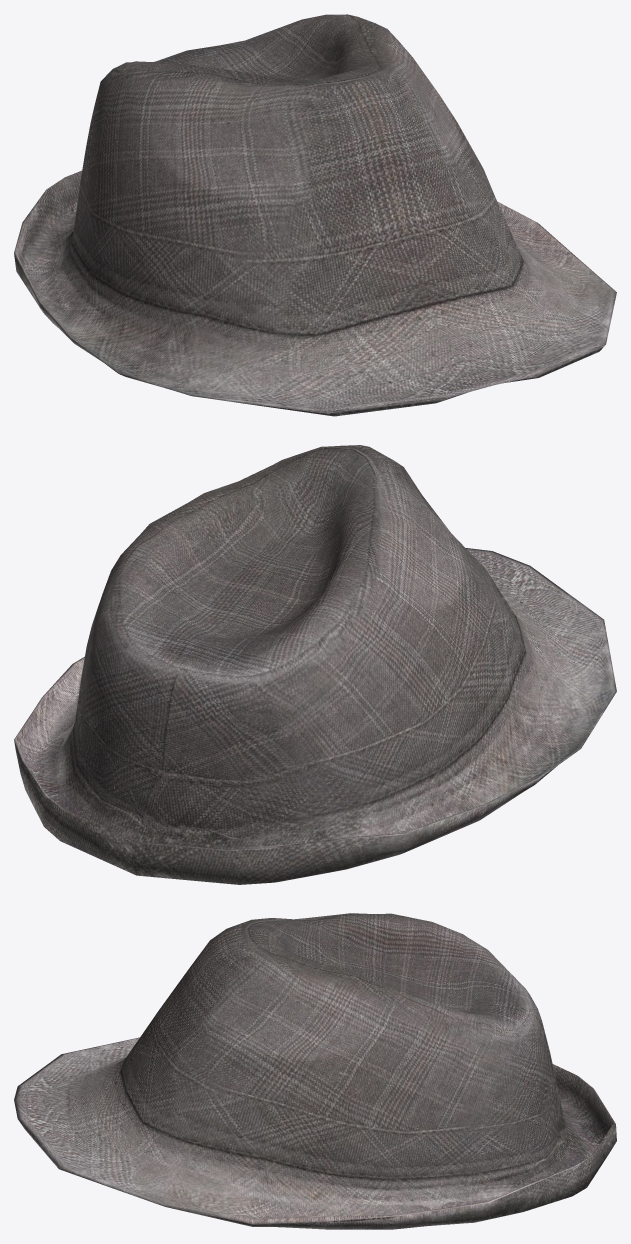
The model's file is hat_fedora.gltf.
3 renders of one model, top to bottom at view 1: azimuth 30°, elevation 25°; view 2: azimuth 150°, elevation 25°; view 3: azimuth 270°, elevation 25°, orthographic. The views are drawn at different scales.
Parts seen in each view (by area): view 1: hat_fedora; view 2: hat_fedora; view 3: hat_fedora.
Boxes of the visible parts, x1,y1,x2,y2 form: hat_fedora: [14, 14, 616, 416]; hat_fedora: [14, 445, 616, 884]; hat_fedora: [14, 913, 616, 1229].
Size of the model in its own units: 0.1865 by 0.1042 by 0.2494.
1 material, 1 textured.
